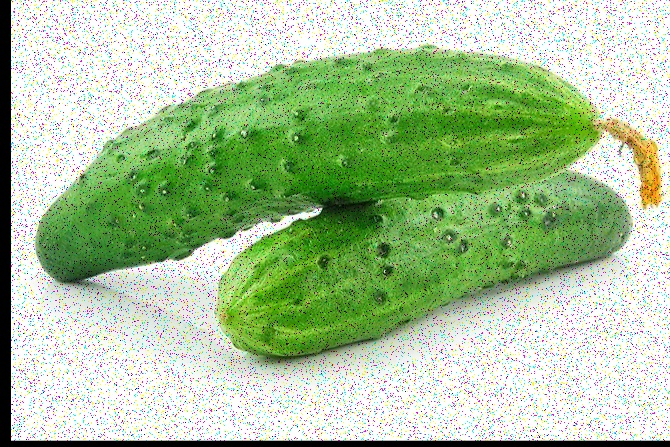cucumber: (45, 37, 604, 278), (234, 174, 627, 348)
